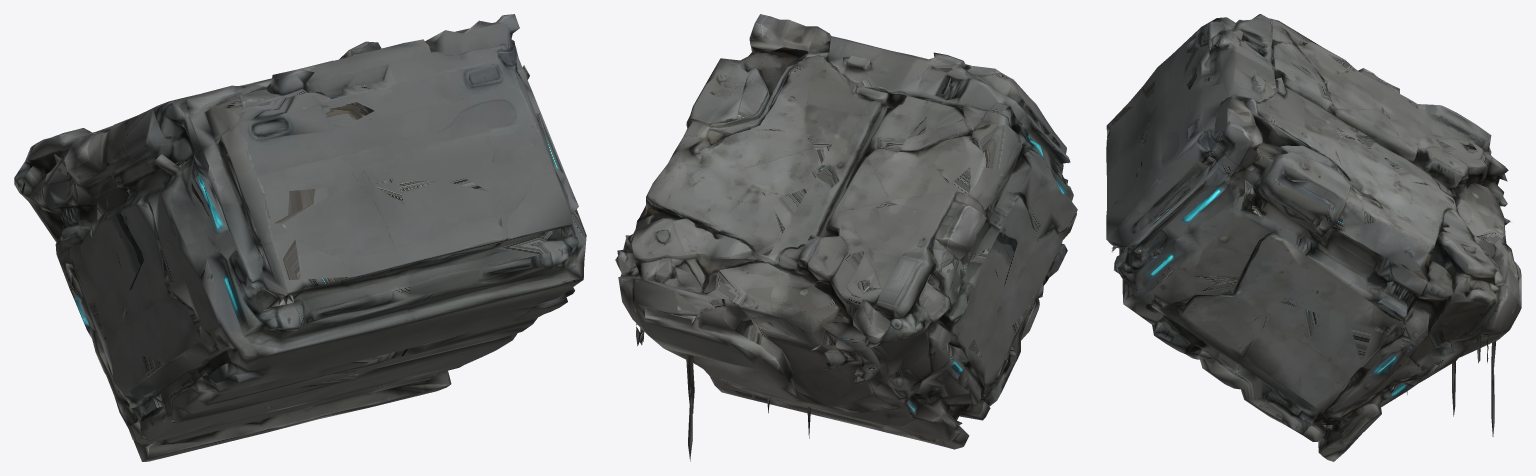
Rendered from scifi_cube.glb.
3 renders of one model, left to right at view 1: azimuth 30°, elevation 25°; view 2: azimuth 150°, elevation 25°; view 3: azimuth 270°, elevation 25°, orthographic. The views are drawn at different scales.
Parts seen in each view (by area): view 1: tripo_node_1cf98d73-0a08-4fd8-82df-c6e6c06836a6; view 2: tripo_node_1cf98d73-0a08-4fd8-82df-c6e6c06836a6; view 3: tripo_node_1cf98d73-0a08-4fd8-82df-c6e6c06836a6.
Part boxes in pixels (x1=…): tripo_node_1cf98d73-0a08-4fd8-82df-c6e6c06836a6: x1=14, y1=14, x2=586, y2=461; tripo_node_1cf98d73-0a08-4fd8-82df-c6e6c06836a6: x1=615, y1=14, x2=1077, y2=461; tripo_node_1cf98d73-0a08-4fd8-82df-c6e6c06836a6: x1=1106, y1=14, x2=1521, y2=461.
Bounding box in the file's own units: 0.8763 × 0.9104 × 0.9965.
1 material, 1 textured.
